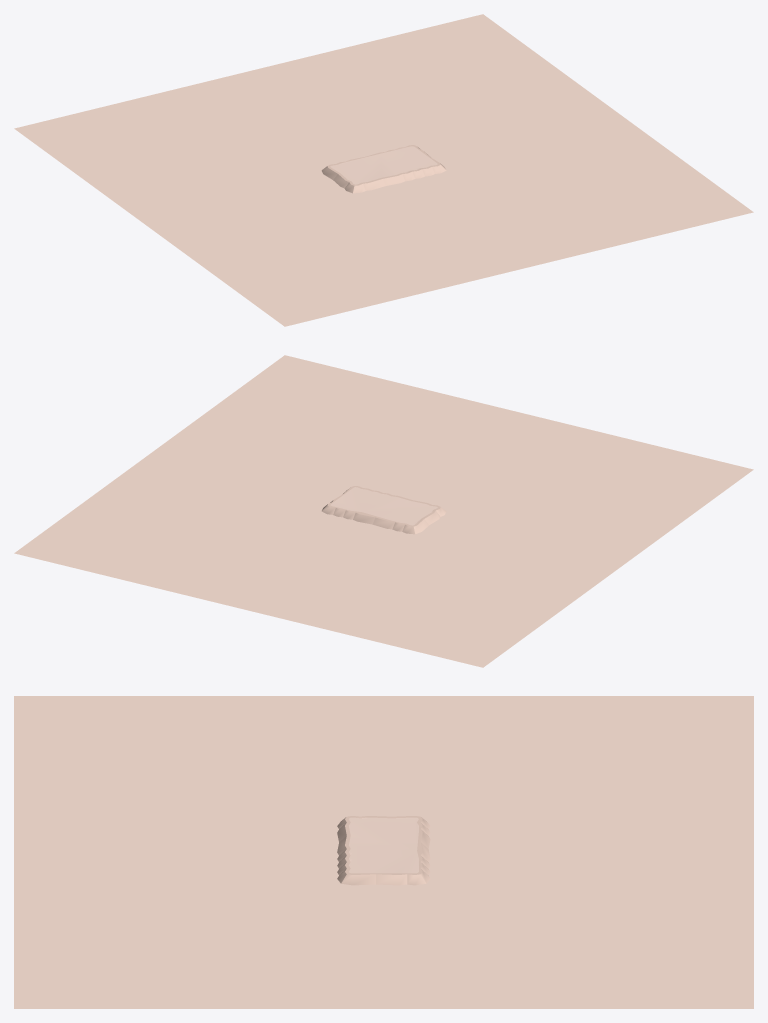
The model's file is Terrain01.fbx.
3 views of the same model, one above another, from view 1: azimuth 30°, elevation 25°; view 2: azimuth 150°, elevation 25°; view 3: azimuth 270°, elevation 25° (orthographic). The views are drawn at different scales.
Parts seen in each view (by area): view 1: terrain; view 2: terrain; view 3: terrain.
Part boxes in pixels (left/top/right/bottom): terrain: left=14, top=14, right=753, bottom=326; terrain: left=14, top=355, right=753, bottom=667; terrain: left=14, top=696, right=753, bottom=1008.
Size of the model in its own units: 190 by 2.27 by 190.
